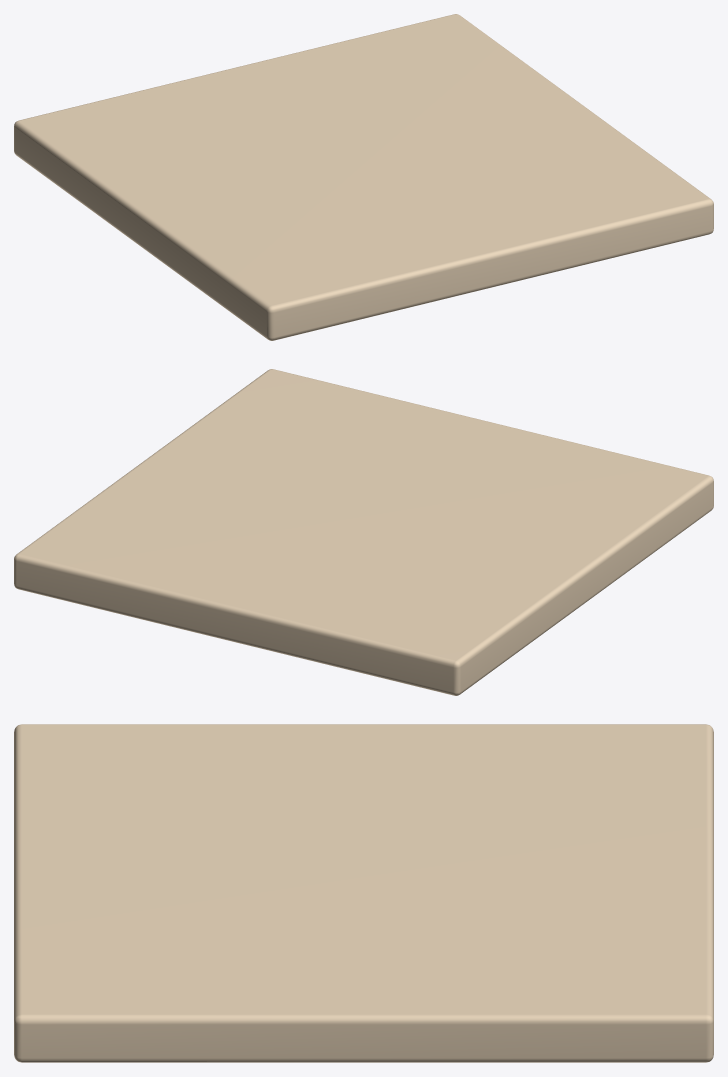
The model's file is floor-sand.obj.
3 views of the same model, one above another, from view 1: azimuth 30°, elevation 25°; view 2: azimuth 150°, elevation 25°; view 3: azimuth 270°, elevation 25° (orthographic). The views are drawn at different scales.
Parts seen in each view (by area): view 1: floor-sand_tile; view 2: floor-sand_tile; view 3: floor-sand_tile.
Boxes of the visible parts, x1,y1,x2,y2 form: floor-sand_tile: (14, 14, 713, 340); floor-sand_tile: (14, 369, 713, 695); floor-sand_tile: (14, 724, 713, 1062).
Bounding box in the file's own units: 0.799 × 0.06 × 0.799.
